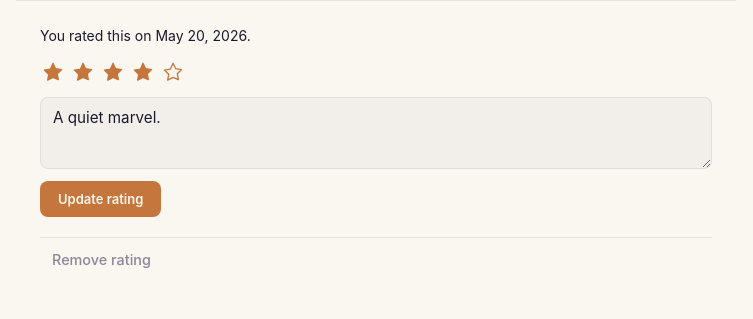
Scenario: RatingControl — AC-7: custodial reauth_required on edit › custodial reauth_required (401): shows an honest 'sign in again' message and rolls back
The width and height of the screenshot is (753, 319).
Click the button named "rate 5 of 5": (173, 72) [160,59,186,85]
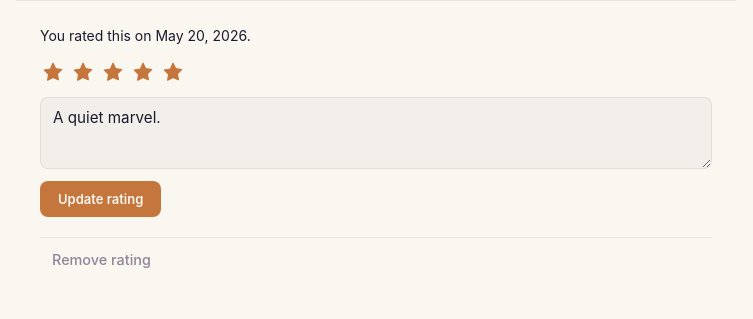
Click the button "Update rating": (101, 199) [40,181,161,217]
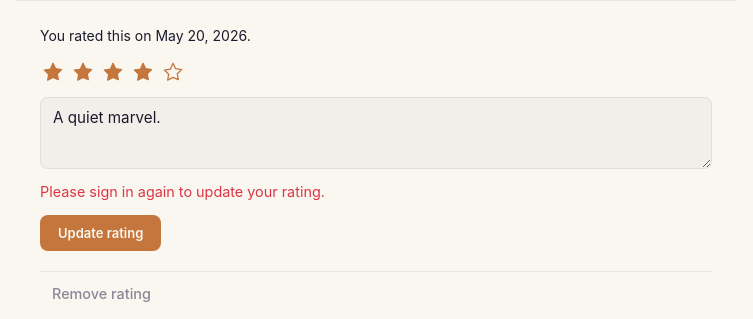
Result: the message shows "sign in again to update" at [40,183,325,200]
